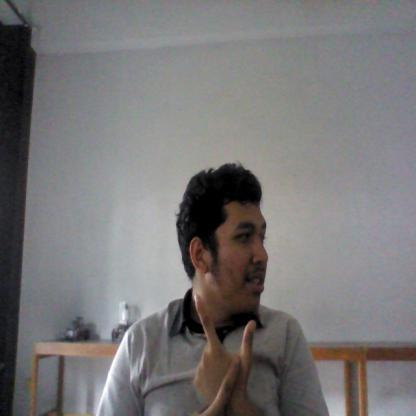Y: (189, 293, 259, 416)
